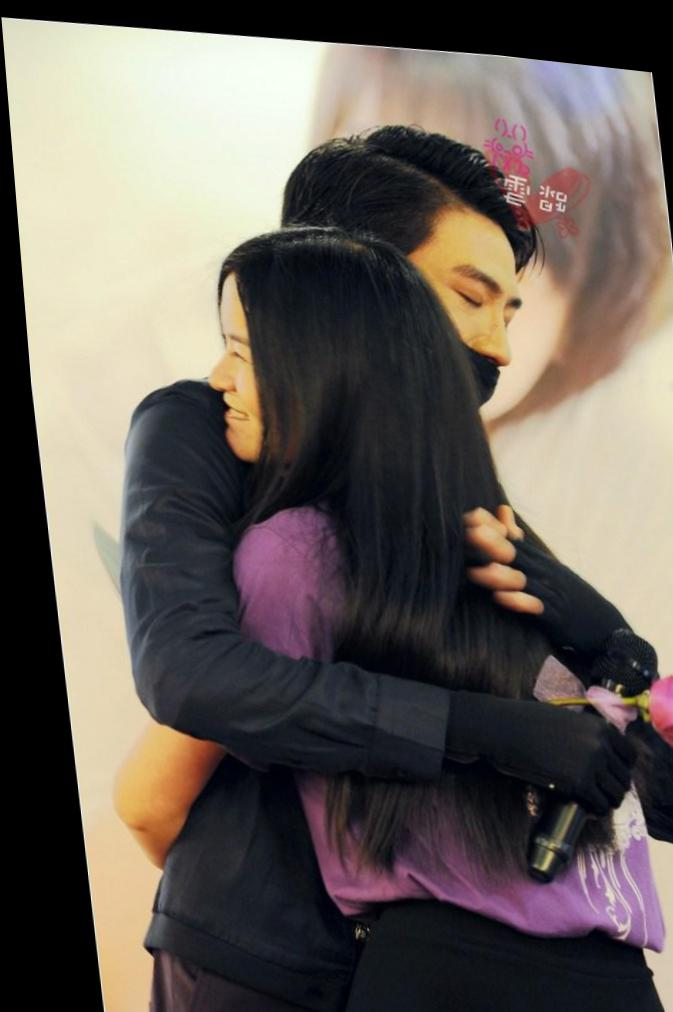NONE: (186, 296, 312, 470)
WRONG: (351, 233, 544, 430)
